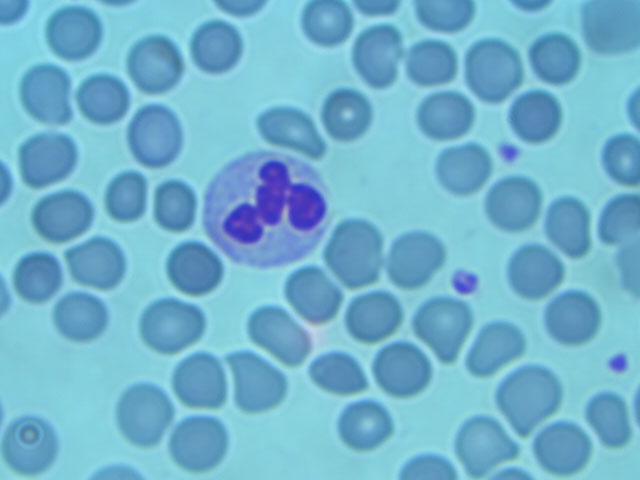Platelets: (492, 136, 526, 168), (450, 264, 481, 299), (608, 347, 635, 379)
RBC: (452, 412, 514, 475), (228, 352, 290, 415), (171, 348, 233, 411), (141, 297, 203, 360), (163, 237, 225, 300), (140, 174, 202, 237), (98, 164, 160, 227), (70, 231, 132, 294), (125, 104, 187, 166), (543, 195, 605, 257), (484, 170, 546, 232), (430, 133, 492, 195), (502, 236, 563, 299), (544, 283, 605, 346), (464, 315, 525, 378), (500, 360, 561, 423), (534, 413, 595, 476), (579, 386, 640, 449), (374, 342, 435, 405), (414, 297, 475, 360), (385, 228, 446, 291), (321, 222, 382, 285), (283, 259, 344, 322), (247, 304, 308, 367), (306, 341, 367, 404), (112, 383, 173, 446), (163, 410, 224, 473), (17, 128, 78, 191), (17, 67, 78, 130), (70, 67, 131, 130), (42, 1, 103, 63), (1, 411, 61, 474), (123, 34, 184, 92), (187, 21, 248, 79), (318, 87, 379, 145), (260, 96, 321, 154), (350, 26, 411, 84), (401, 32, 462, 90), (33, 185, 91, 245), (298, 1, 359, 58), (464, 38, 522, 96), (10, 249, 70, 304), (52, 290, 108, 348), (337, 399, 394, 450), (530, 34, 586, 85), (509, 89, 560, 142), (420, 87, 471, 140)
WBC: (206, 151, 327, 260)
